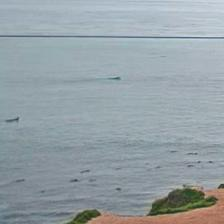surfer: (6, 117, 19, 122), (108, 76, 120, 80)
